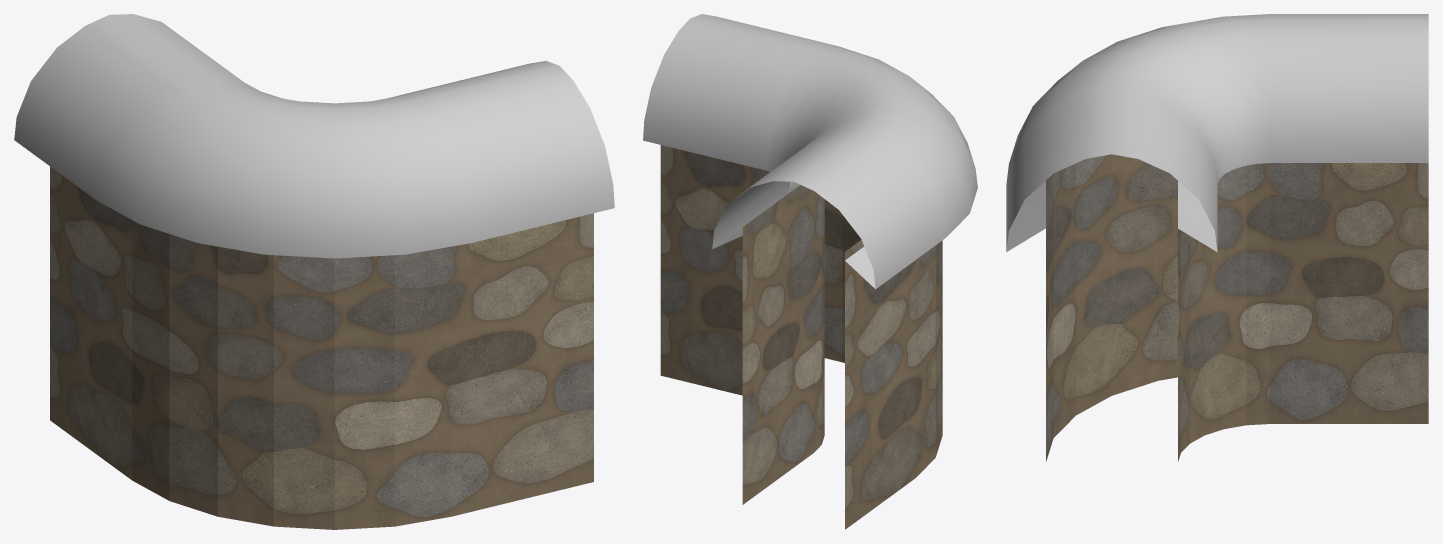
File: Hanok_ChogaWall_Corner_01.fbx
3 renders of one model, left to right at view 1: azimuth 30°, elevation 25°; view 2: azimuth 150°, elevation 25°; view 3: azimuth 270°, elevation 25°, orthographic. The views are drawn at different scales.
Visible parts, largest first — view 1: Wall_Choga_Corner_01; view 2: Wall_Choga_Corner_01; view 3: Wall_Choga_Corner_01.
Boxes of the visible parts, bbox=[...] form: Wall_Choga_Corner_01: bbox=[14, 14, 614, 529]; Wall_Choga_Corner_01: bbox=[643, 14, 977, 529]; Wall_Choga_Corner_01: bbox=[1006, 14, 1428, 461].
Size of the model in its own units: 1.6 by 1.57 by 1.6.
